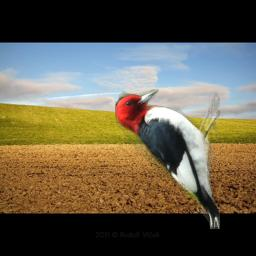Woodpecker: (115, 89, 220, 229)
